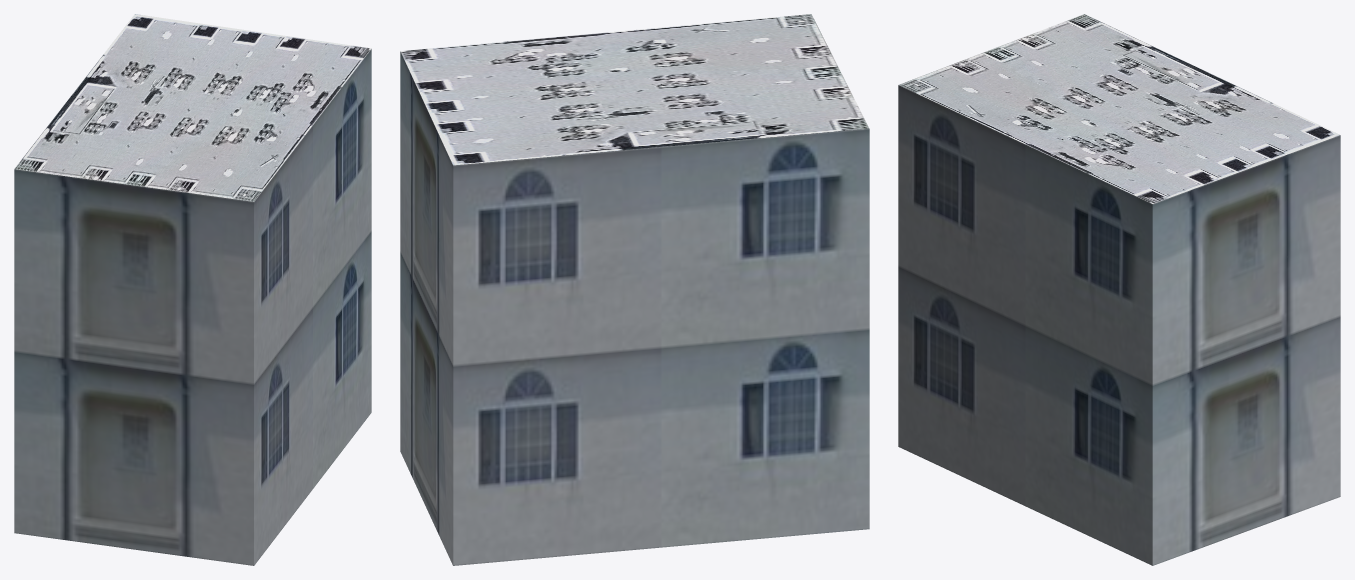
The model's file is ResTex__1567.fbx.
3 views of the same model, side by side, from view 1: azimuth 30°, elevation 25°; view 2: azimuth 150°, elevation 25°; view 3: azimuth 270°, elevation 25° (orthographic). The views are drawn at different scales.
Parts seen in each view (by area): view 1: CityEngineMaterial_17_m, CityEngineMaterial_2_m; view 2: CityEngineMaterial_17_m, CityEngineMaterial_2_m; view 3: CityEngineMaterial_17_m, CityEngineMaterial_2_m.
Part boxes in pixels (<box>): CityEngineMaterial_17_m: <box>14,49,371,565</box>; CityEngineMaterial_2_m: <box>14,14,371,201</box>; CityEngineMaterial_17_m: <box>400,51,869,565</box>; CityEngineMaterial_2_m: <box>400,14,869,165</box>; CityEngineMaterial_17_m: <box>898,85,1340,565</box>; CityEngineMaterial_2_m: <box>899,14,1339,203</box>.
Bounding box in the file's own units: 6.76 × 6 × 6.65.
Materials: 2 (2 with a texture image).
